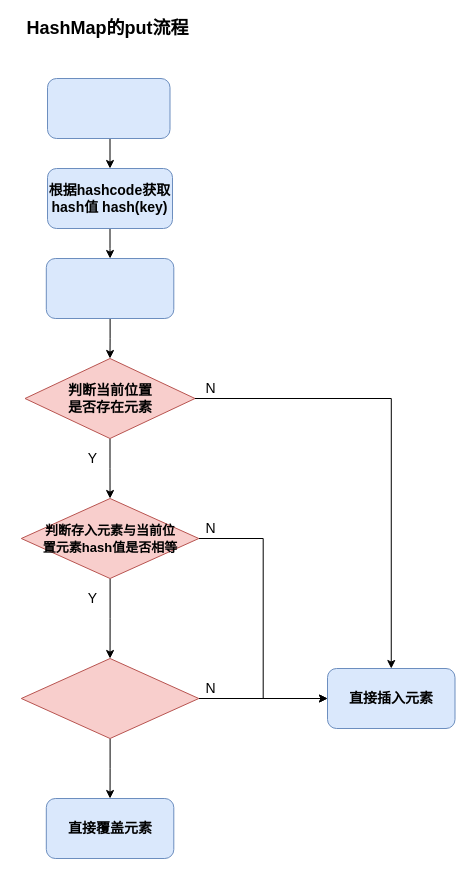
Some shapes in this 472 by 876 pixel diagram are drawn without their labels. Each missing label, with the centre of its shape:
map.put(key,value): [108,108]
判断存入元素的key与当 前位置的key是否相等: [109,698]
计算元素存放的位置 （n - 1）& hash: [109,288]
